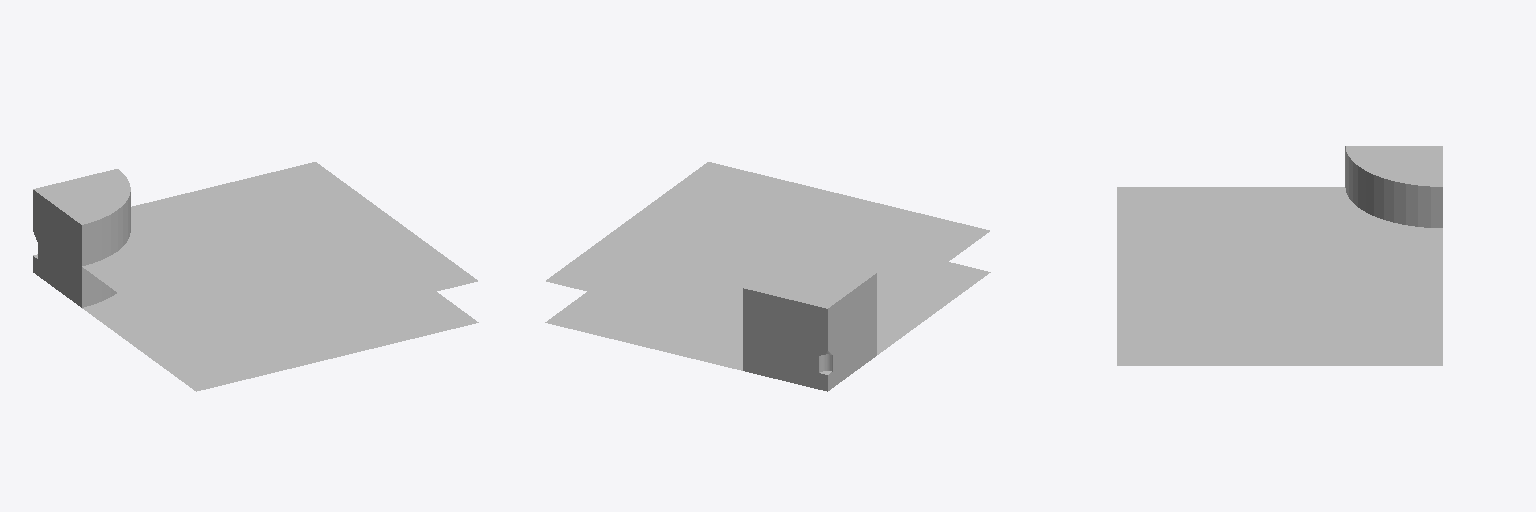
The model's file is fountainCornerInner.obj.
3 renders of one model, left to right at view 1: azimuth 30°, elevation 25°; view 2: azimuth 150°, elevation 25°; view 3: azimuth 270°, elevation 25°, orthographic.
Parts seen in each view (by area): view 1: fountainCornerInner; view 2: fountainCornerInner; view 3: fountainCornerInner.
Part boxes in pixels (left/top/right/bottom): fountainCornerInner: left=33, top=162, right=478, bottom=391; fountainCornerInner: left=545, top=162, right=990, bottom=391; fountainCornerInner: left=1117, top=146, right=1442, bottom=365.
Size of the model in its own units: 1 by 0.28 by 1.